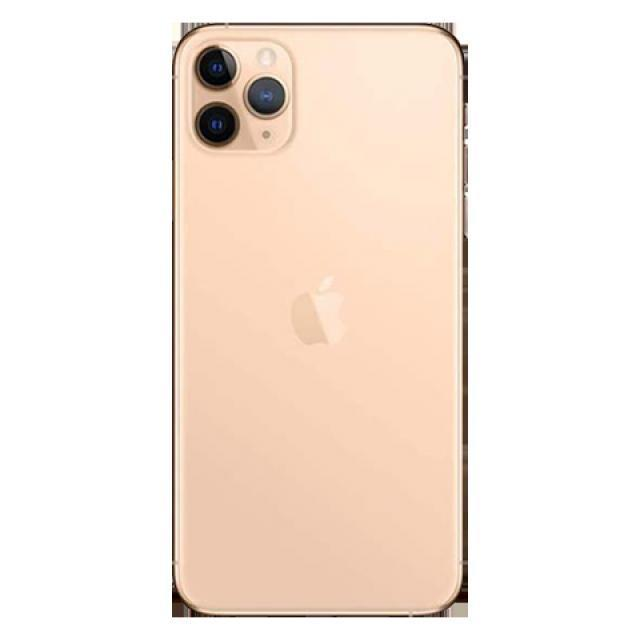phone: (166, 16, 471, 623)
